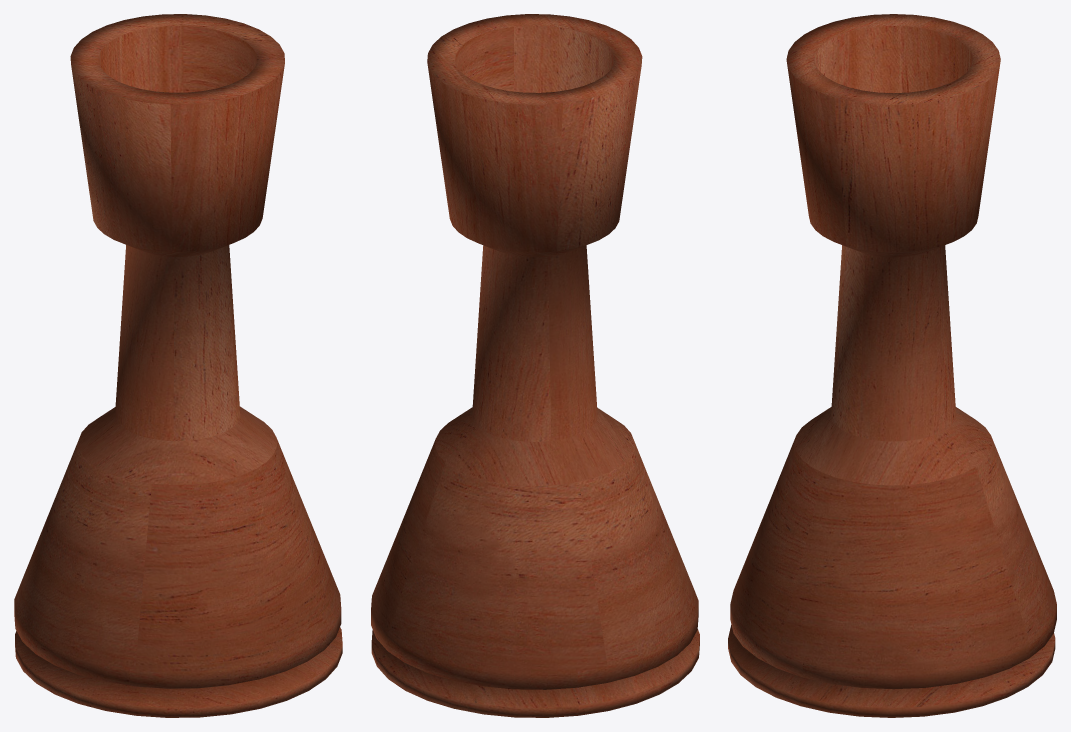
Rendered from rook.obj.
The picture shows the model from 3 angles, left to right: view 1: azimuth 30°, elevation 25°; view 2: azimuth 150°, elevation 25°; view 3: azimuth 270°, elevation 25°; orthographic projection.
Parts seen in each view (by area): view 1: Rook; view 2: Rook; view 3: Rook.
Boxes of the visible parts, x1=… form: Rook: x1=14, y1=14, x2=342, y2=717; Rook: x1=371, y1=14, x2=699, y2=717; Rook: x1=728, y1=14, x2=1056, y2=717.
Size of the model in its own units: 0.3 by 0.5928 by 0.3.
